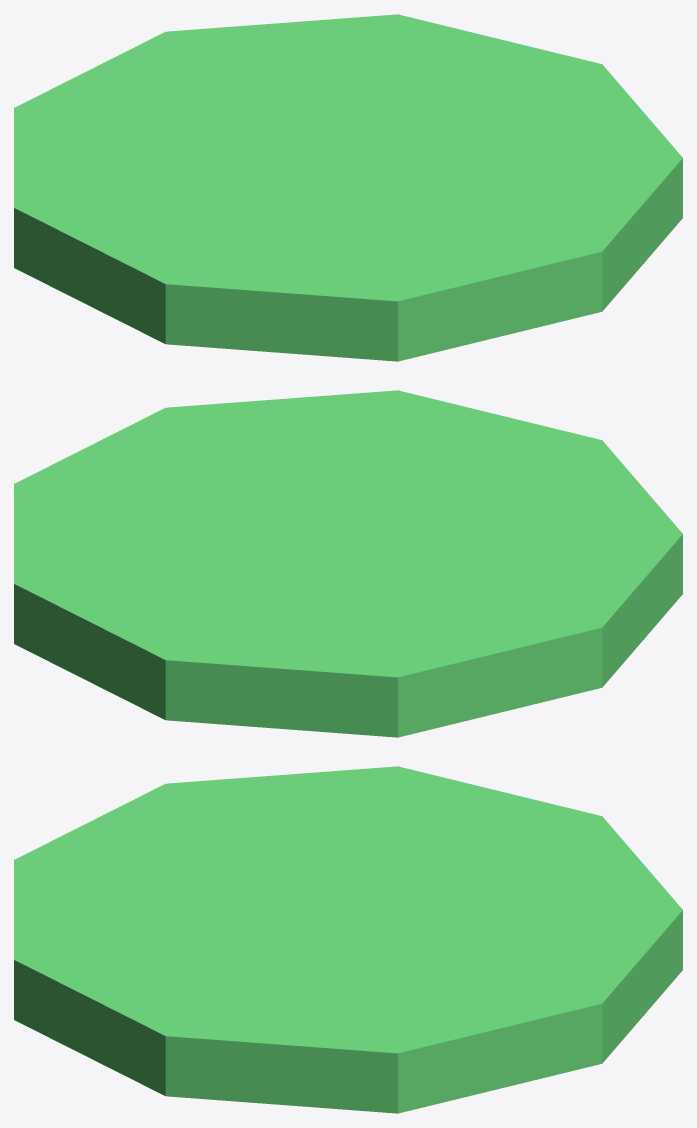
The model's file is platform.fbx.
3 renders of one model, top to bottom at view 1: azimuth 30°, elevation 25°; view 2: azimuth 150°, elevation 25°; view 3: azimuth 270°, elevation 25°, orthographic.
Parts seen in each view (by area): view 1: Cylinder; view 2: Cylinder; view 3: Cylinder.
Part boxes in pixels (left/top/right/bottom): Cylinder: left=14, top=14, right=682, bottom=361; Cylinder: left=14, top=390, right=682, bottom=737; Cylinder: left=14, top=766, right=682, bottom=1113.
Size of the model in its own units: 564 by 55.18 by 556.
